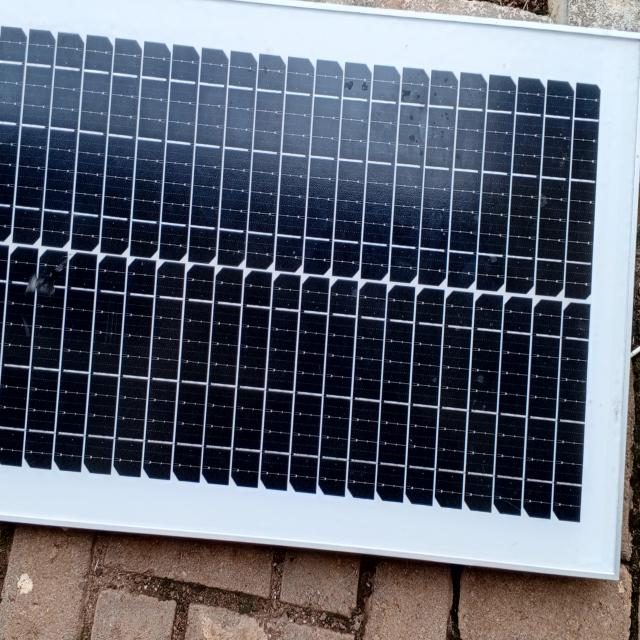Clean: (8, 0, 597, 529)
